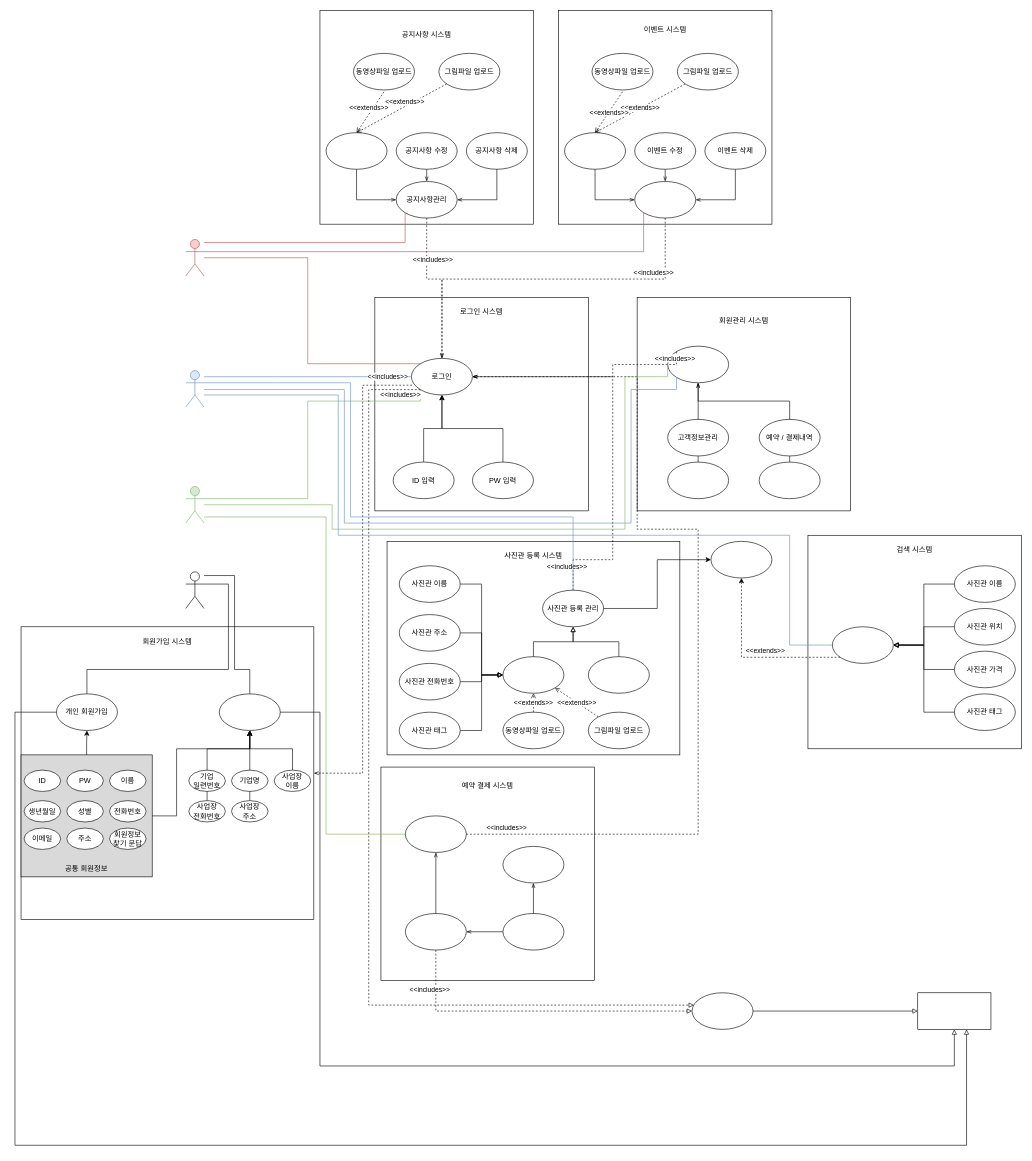
This 1032x1161 diagram has some shape labels left out. Here are the shapes that lost their labels. From the top down, the centre of each, then its label:
the point at 356,150: 공지사항 등록
the point at 595,150: 이벤트 등록
the point at 665,199: 이벤트관리
the point at 194,257: 관리자
the point at 698,364: 회원관리
the point at 194,388: 사용자(기업)
the point at 698,480: 쿠폰함
the point at 789,480: 장바구니
the point at 194,504: 사용자(개인)
the point at 741,559: 사진관 상세 페이지
the point at 194,589: 방문자(비회원)
the point at 862,644: 사진관 검색
the point at 533,674: 사진관 등록
the point at 618,674: 등록사진관 수정
the point at 249,711: 기업 회원가입
the point at 435,833: 예약하기
the point at 533,864: 예약확인
the point at 435,931: 결제하기
the point at 533,931: 결제정보
the point at 722,1010: 사용자 인증
the point at 954,1010: 회원정보 데이터베이스
